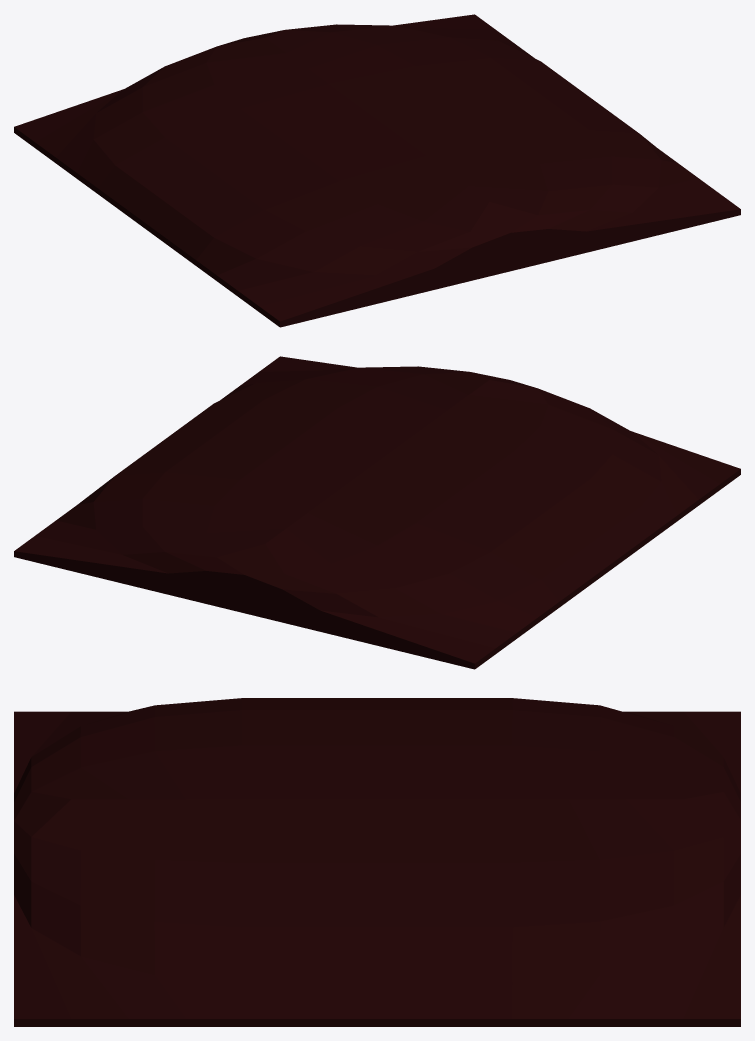
Rendered from Roof.fbx.
3 renders of one model, top to bottom at view 1: azimuth 30°, elevation 25°; view 2: azimuth 150°, elevation 25°; view 3: azimuth 270°, elevation 25°, orthographic. The views are drawn at different scales.
Parts seen in each view (by area): view 1: Roof; view 2: Roof; view 3: Roof.
Boxes of the visible parts, x1,y1,x2,y2 form: Roof: (14, 14, 740, 327); Roof: (14, 356, 740, 669); Roof: (14, 698, 740, 1026).
Bounding box in the file's own units: 2000 × 225 × 2000.
